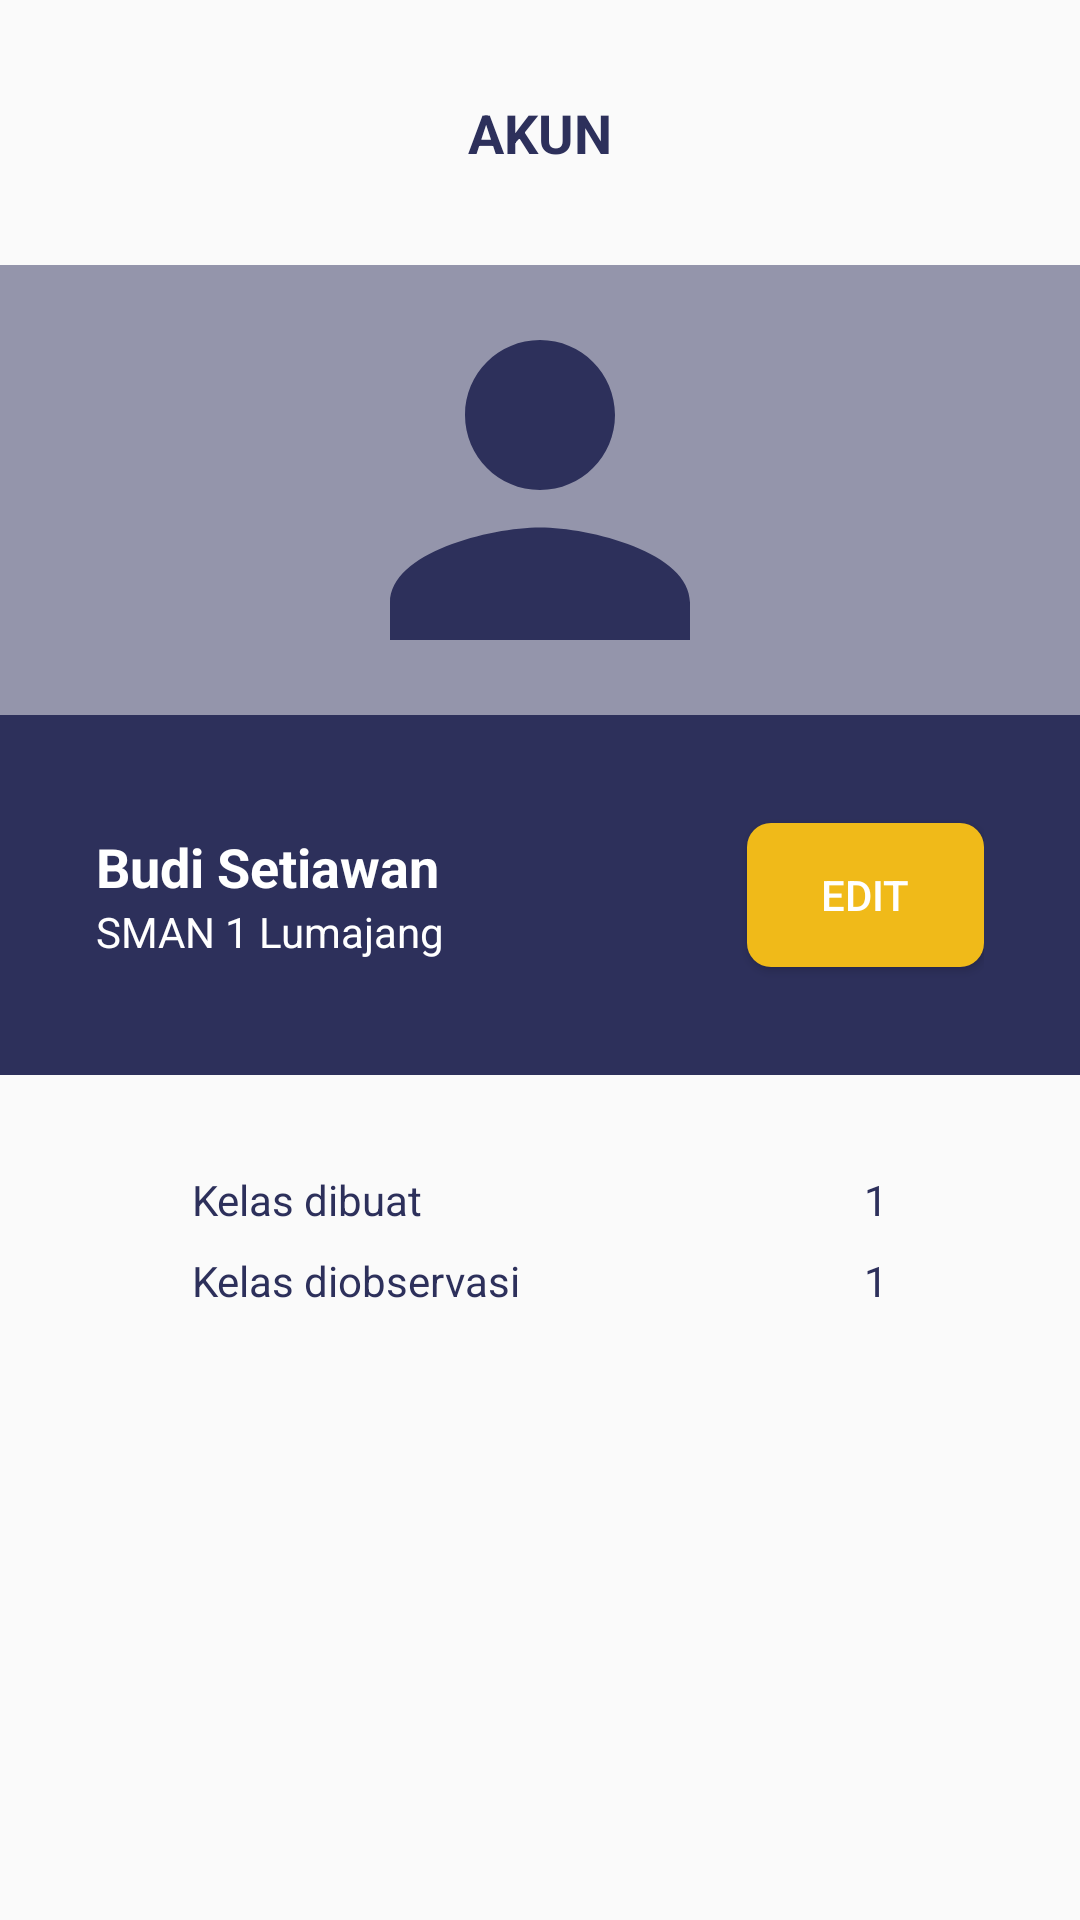

Point at icon controls on the screen. Image size 1080px x 1920px, points as (x,y).
person: (540,490)
